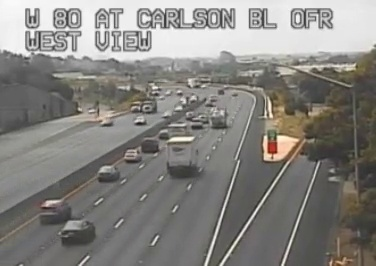car: (40, 199, 71, 224), (61, 220, 94, 241), (98, 166, 117, 181), (141, 137, 158, 153), (124, 149, 141, 162)
small-truck: (167, 136, 197, 173)
